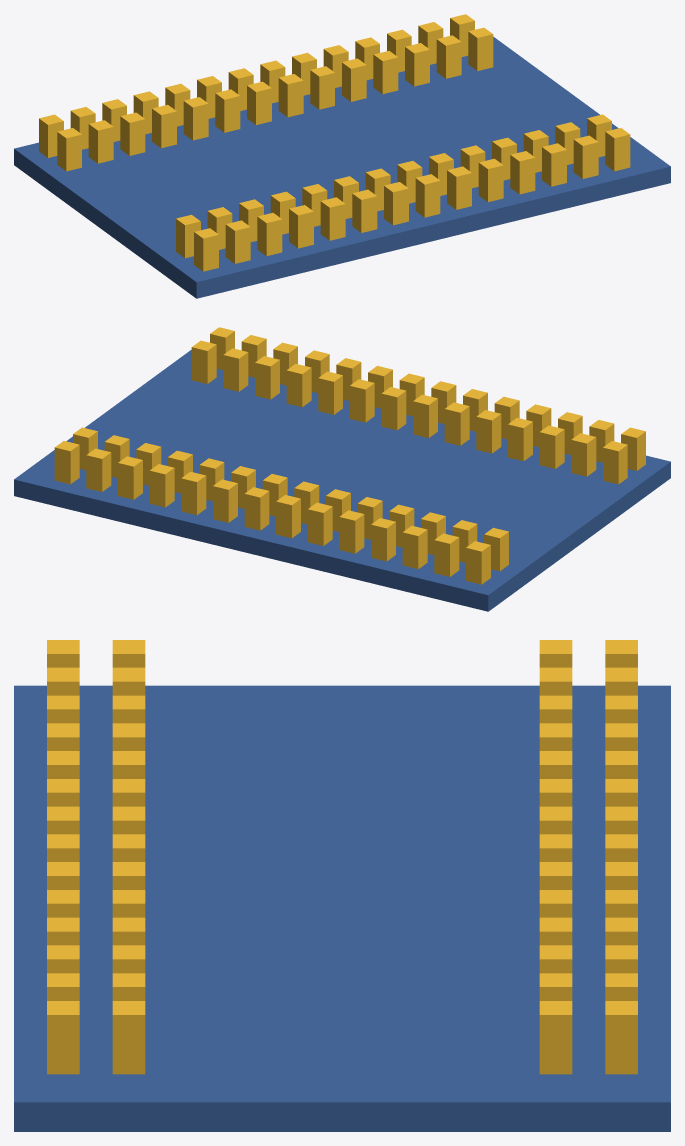
Rendered from another board.obj.
3 views of the same model, one above another, from view 1: azimuth 30°, elevation 25°; view 2: azimuth 150°, elevation 25°; view 3: azimuth 270°, elevation 25° (orthographic). The views are drawn at different scales.
Size of the model in its own units: 30 by 3 by 20.
Materials: 1 (1 with a texture image).
